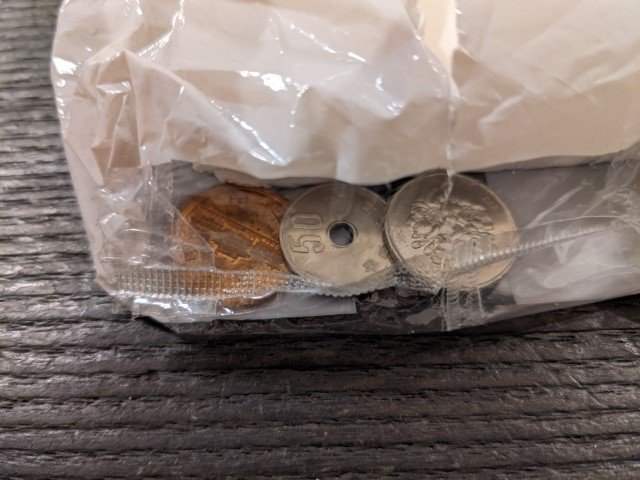100yen: (382, 171, 518, 293)
10yen: (168, 183, 295, 309)
50yen: (279, 182, 400, 290)
